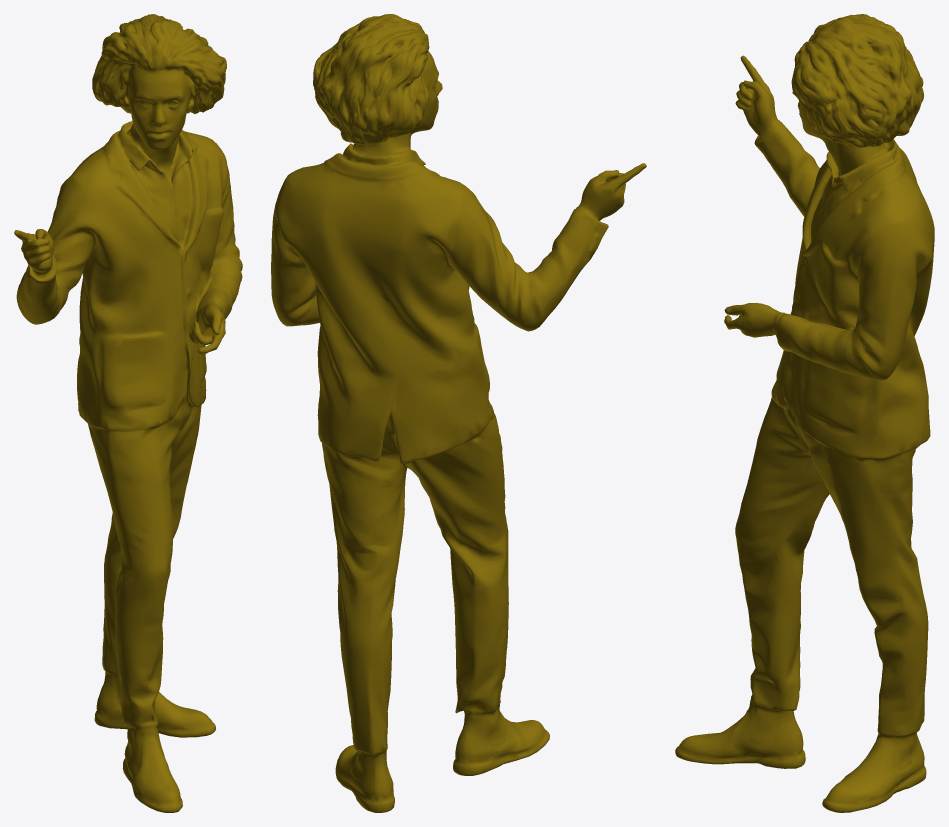
The model's file is man.obj.
3 views of the same model, side by side, from view 1: azimuth 30°, elevation 25°; view 2: azimuth 150°, elevation 25°; view 3: azimuth 270°, elevation 25° (orthographic). The views are drawn at different scales.
Visible parts, largest first — view 1: 00208_Quint009; view 2: 00208_Quint009; view 3: 00208_Quint009.
Boxes of the visible parts, x1=… form: 00208_Quint009: x1=14, y1=14, x2=242, y2=812; 00208_Quint009: x1=271, y1=14, x2=646, y2=812; 00208_Quint009: x1=675, y1=14, x2=934, y2=812.
Bounding box in the file's own units: 29.54 × 70.64 × 21.61.
